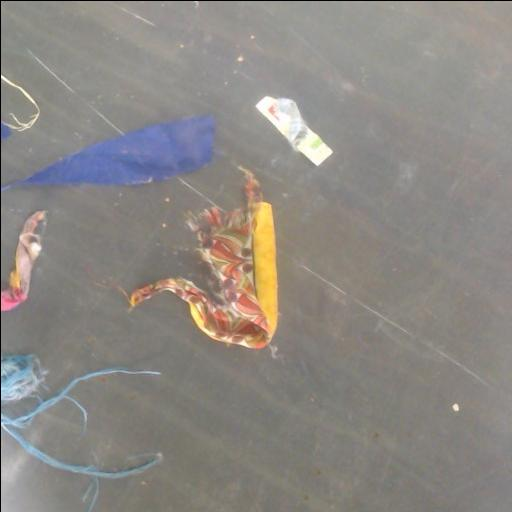cloth: (121, 166, 277, 348), (1, 116, 213, 190), (1, 210, 45, 310)
conveyor belt: (1, 1, 512, 512)
packet: (257, 96, 331, 165)
thread: (1, 368, 160, 486), (1, 210, 44, 310), (1, 74, 39, 139), (1, 353, 46, 404)
